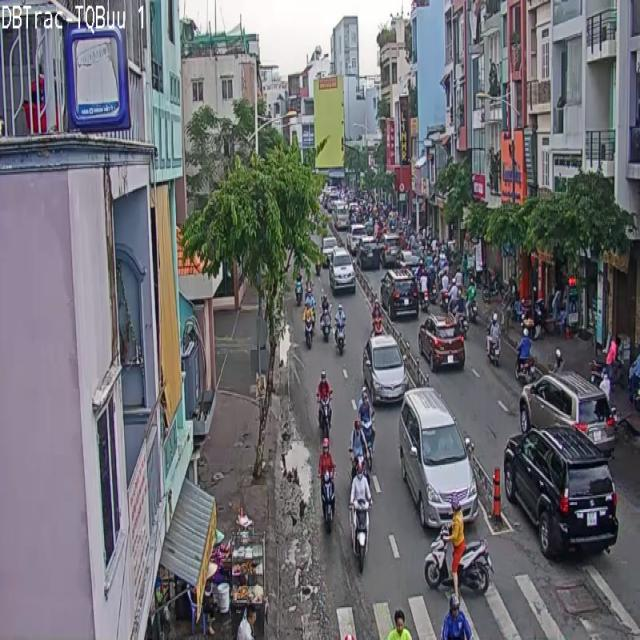car: (425, 494, 492, 592), (350, 461, 372, 570), (318, 439, 334, 530), (358, 388, 374, 449), (318, 370, 331, 437)
traffic-light: (503, 425, 618, 556), (398, 387, 478, 526), (519, 374, 617, 457), (363, 336, 408, 404), (418, 314, 465, 371), (381, 270, 418, 320), (329, 247, 355, 293)
